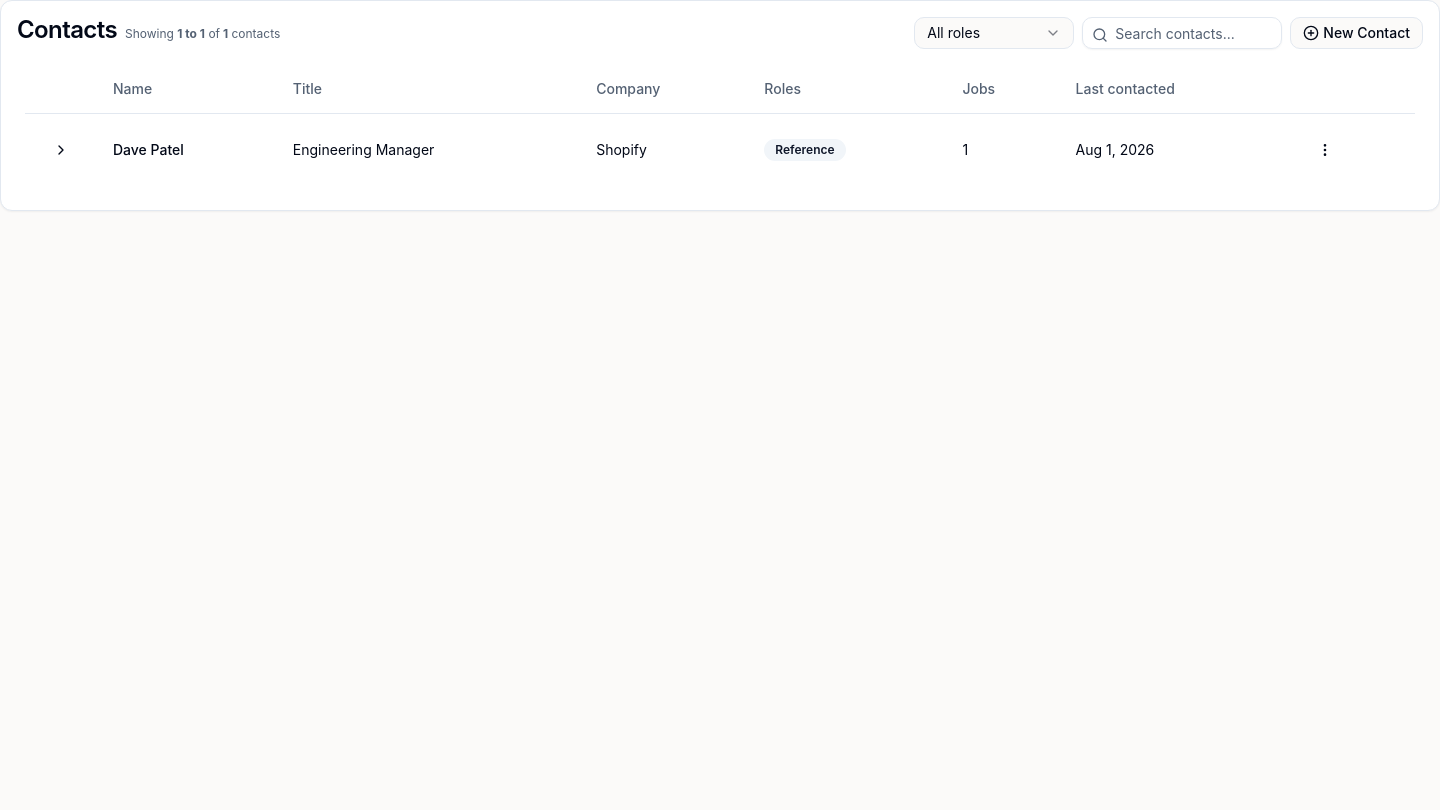
Test: ContactsContainer › names the linked-job count in the delete confirmation
expect the text "Dave Patel" is shown: met, box x1=97 y1=113 x2=277 y2=186
Click the button named "toggle menu".
click(1325, 150)  # box x1=1305 y1=130 x2=1345 y2=170
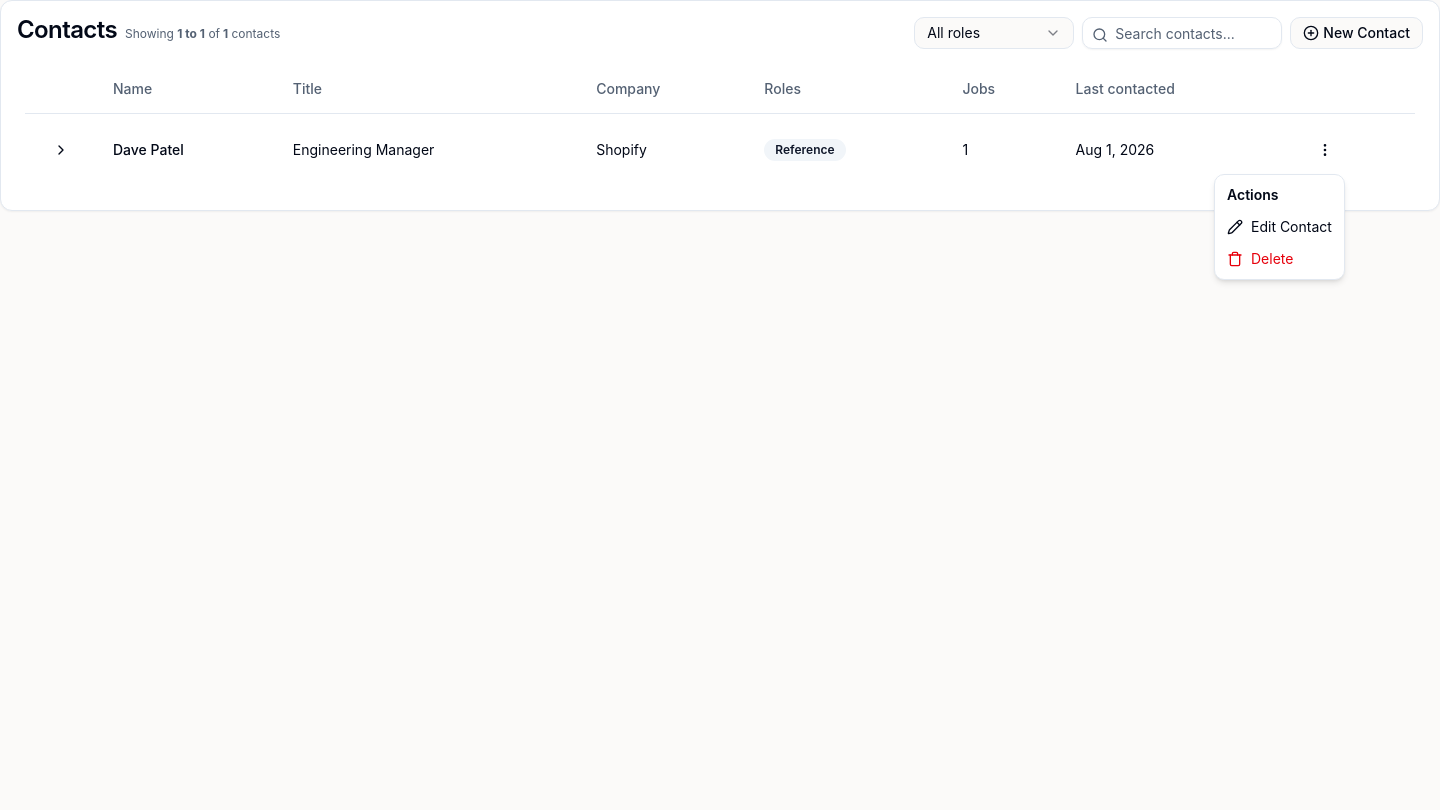
Click the menu item "Delete".
click(1260, 258)  # box x1=1227 y1=250 x2=1293 y2=267
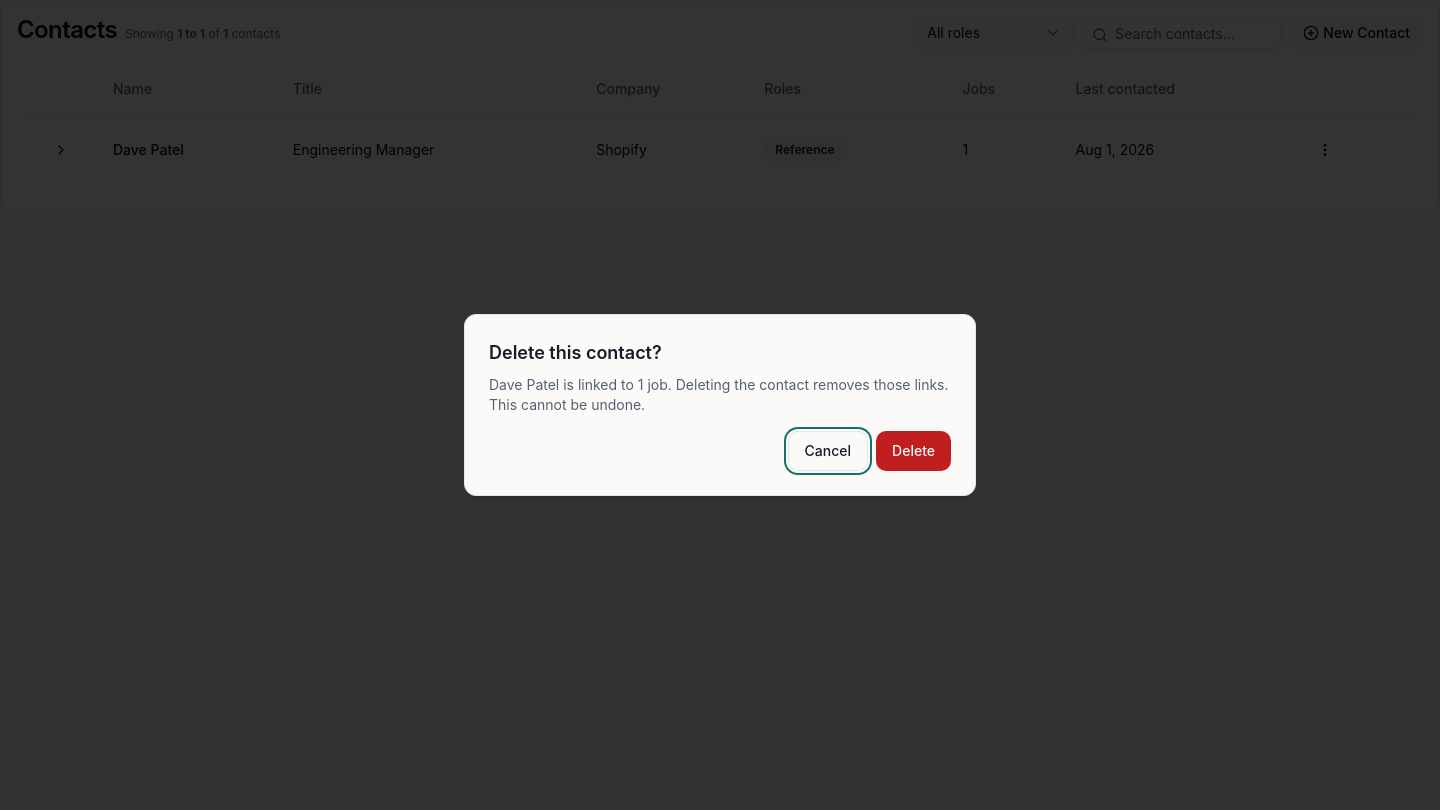
expect the text "1 job" is shown: met, box x1=489 y1=376 x2=948 y2=413
